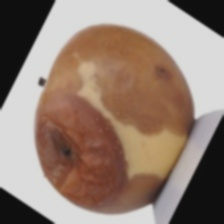apple: (40, 21, 214, 213)
